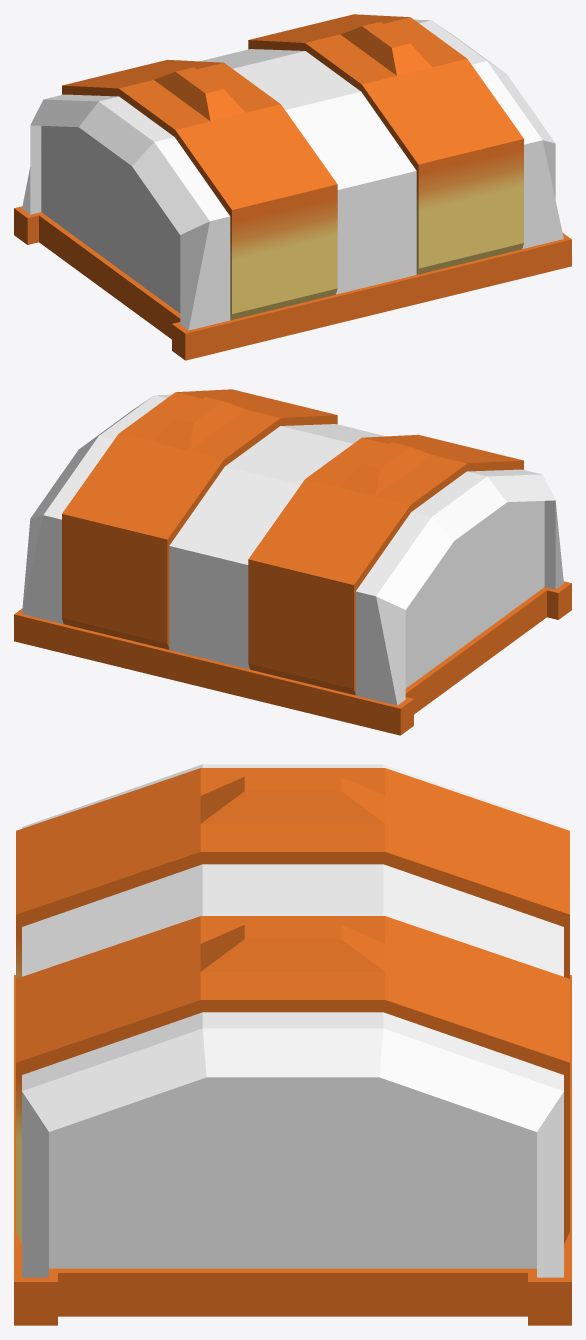
File: DesertChestTop.glb
3 renders of one model, top to bottom at view 1: azimuth 30°, elevation 25°; view 2: azimuth 150°, elevation 25°; view 3: azimuth 270°, elevation 25°, orthographic. The views are drawn at different scales.
Parts seen in each view (by area): view 1: DesertChestTop; view 2: DesertChestTop; view 3: DesertChestTop.
Part boxes in pixels (x1=…): DesertChestTop: x1=14, y1=14, x2=571, y2=360; DesertChestTop: x1=14, y1=389, x2=571, y2=735; DesertChestTop: x1=14, y1=764, x2=571, y2=1325.
Size of the model in its own units: 1.18 by 0.5636 by 0.907.
Materials: 1 (1 with a texture image).
